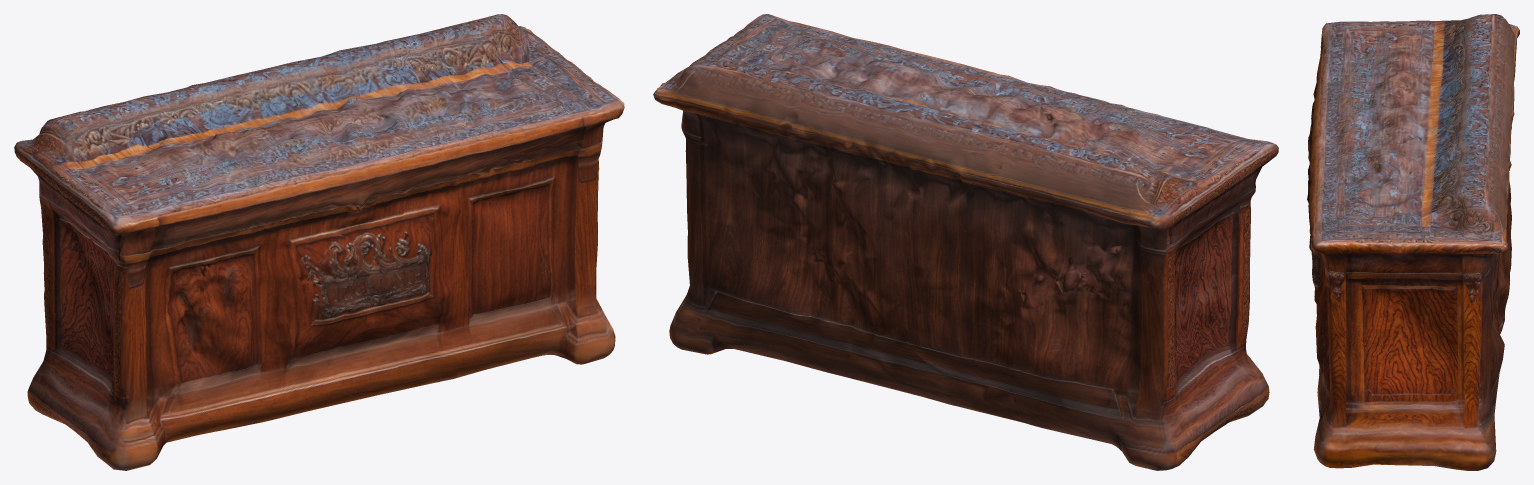
3 renders of one model, left to right at view 1: azimuth 30°, elevation 25°; view 2: azimuth 150°, elevation 25°; view 3: azimuth 270°, elevation 25°, orthographic. The views are drawn at different scales.
Size of the model in its own units: 1.2 by 0.6487 by 0.4794.
1 material, 1 textured.
